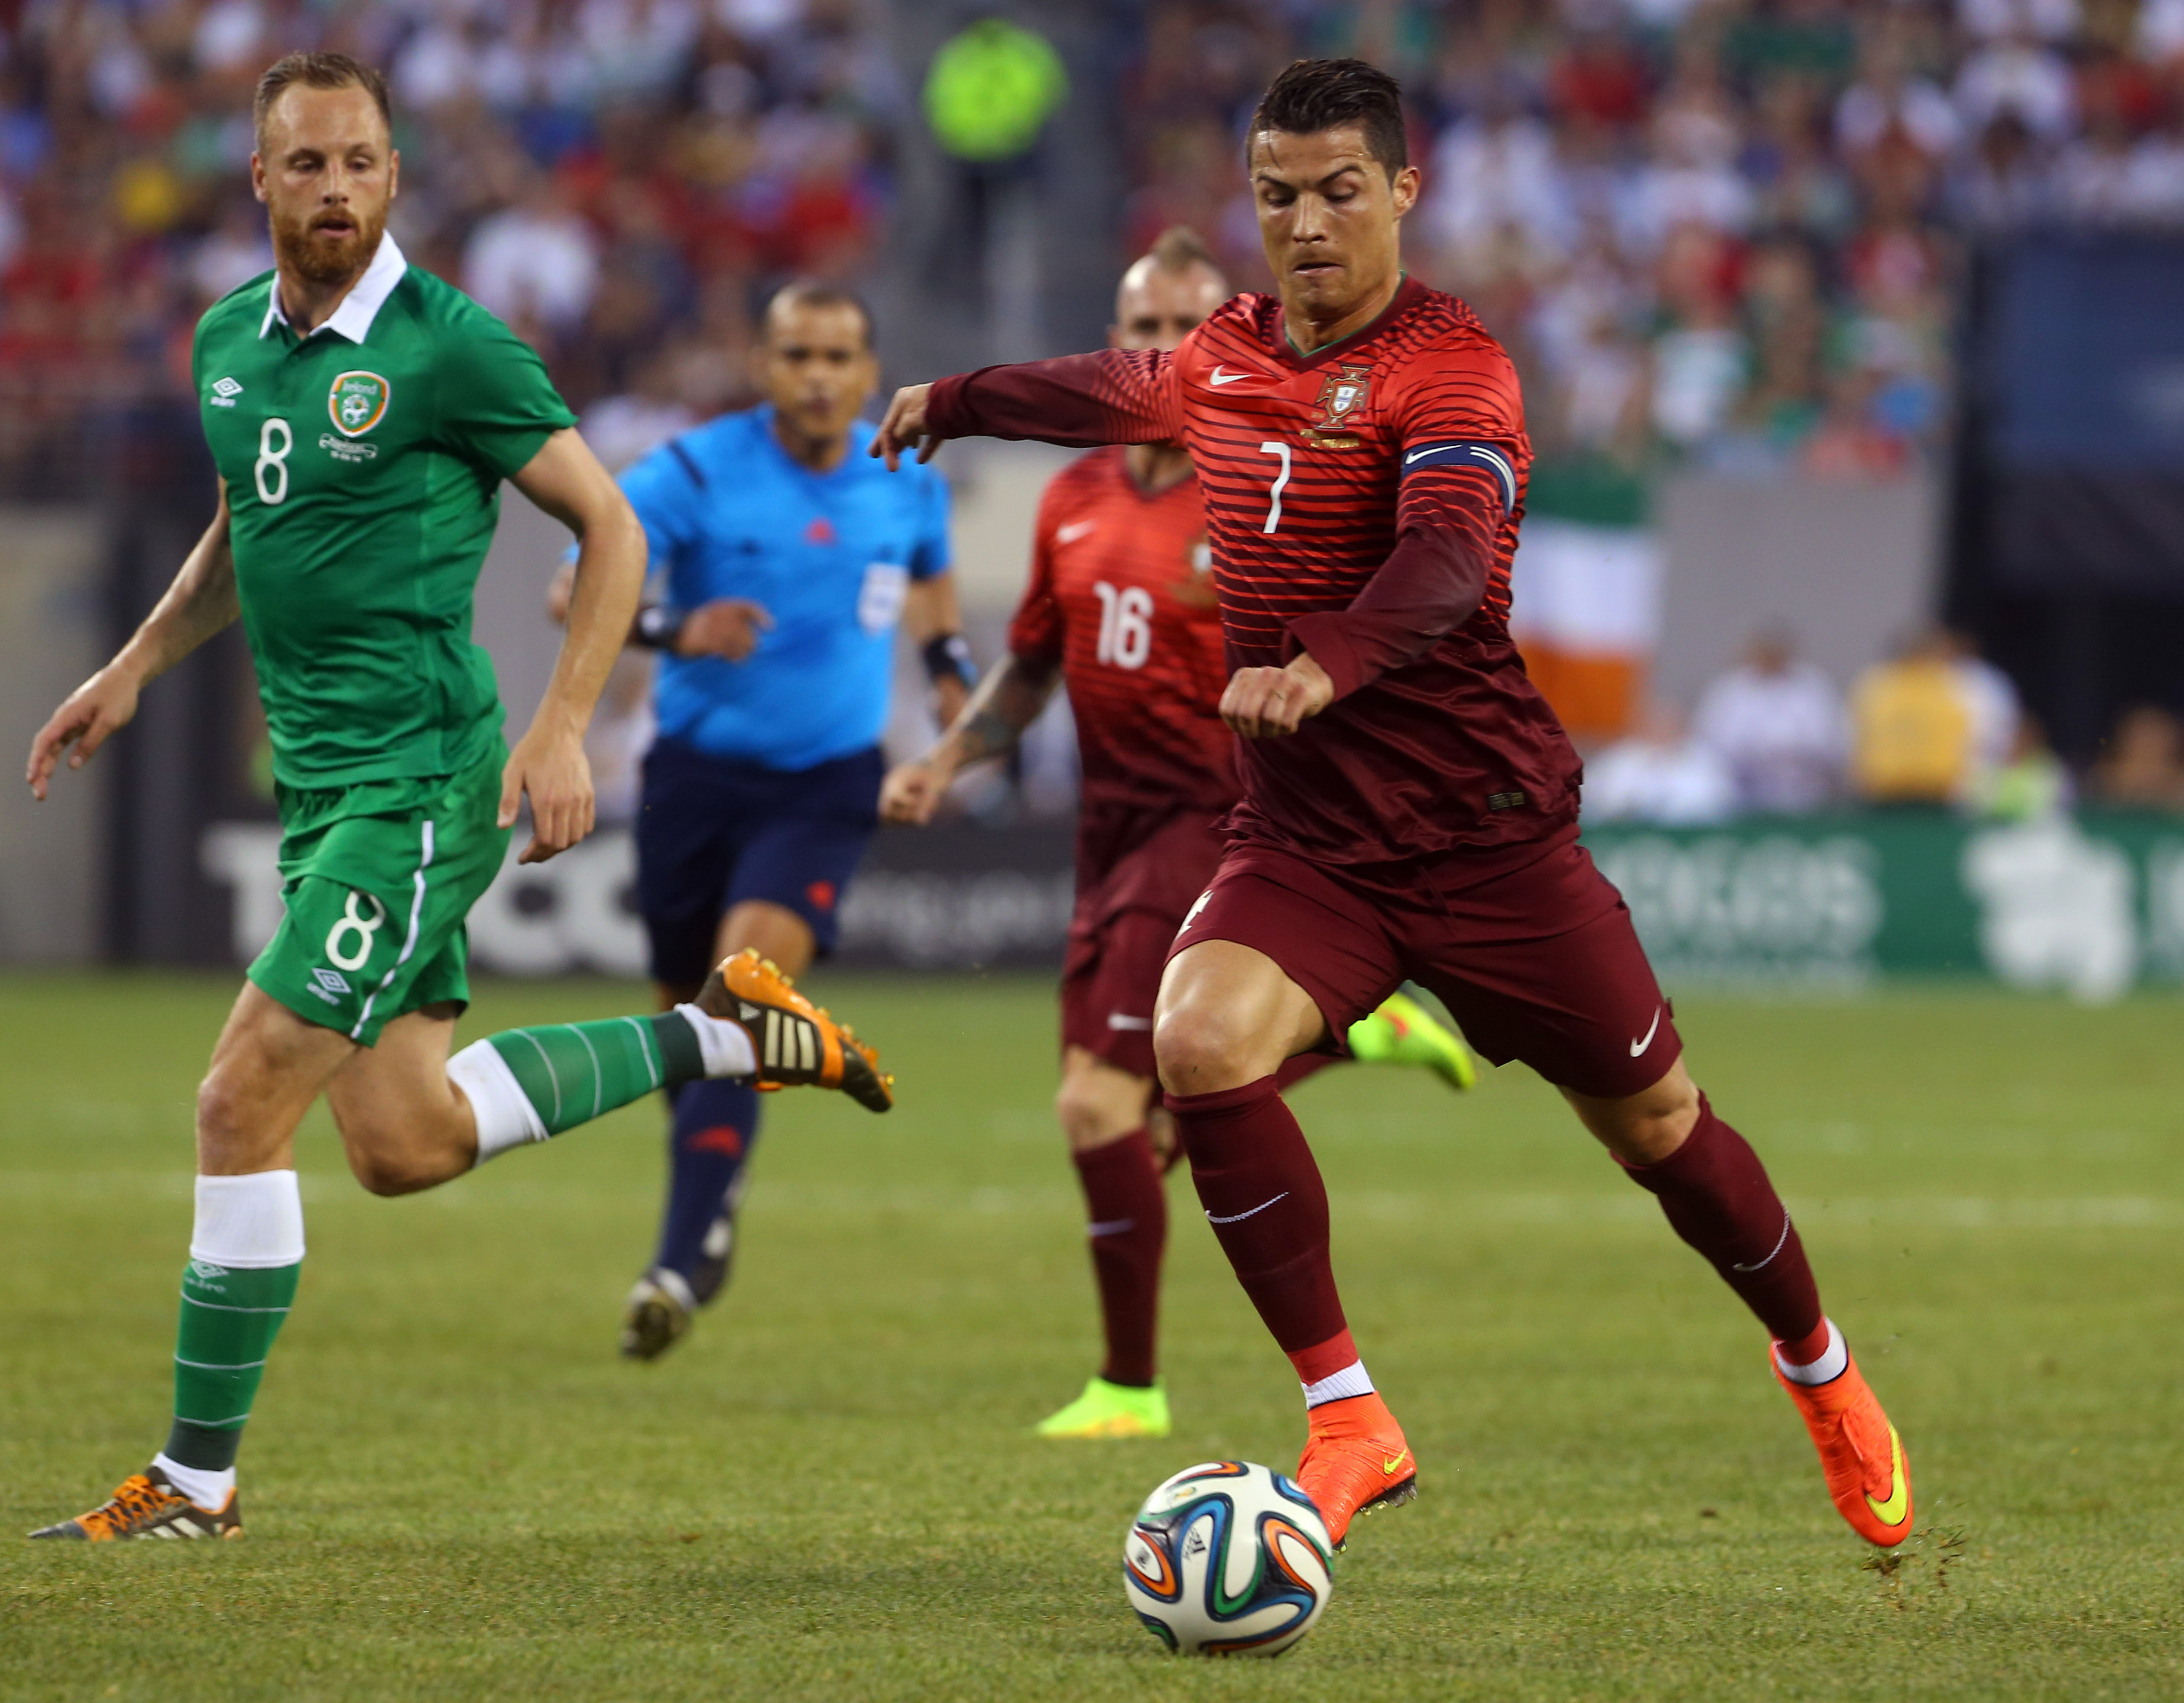football: (1113, 1462, 1337, 1666)
